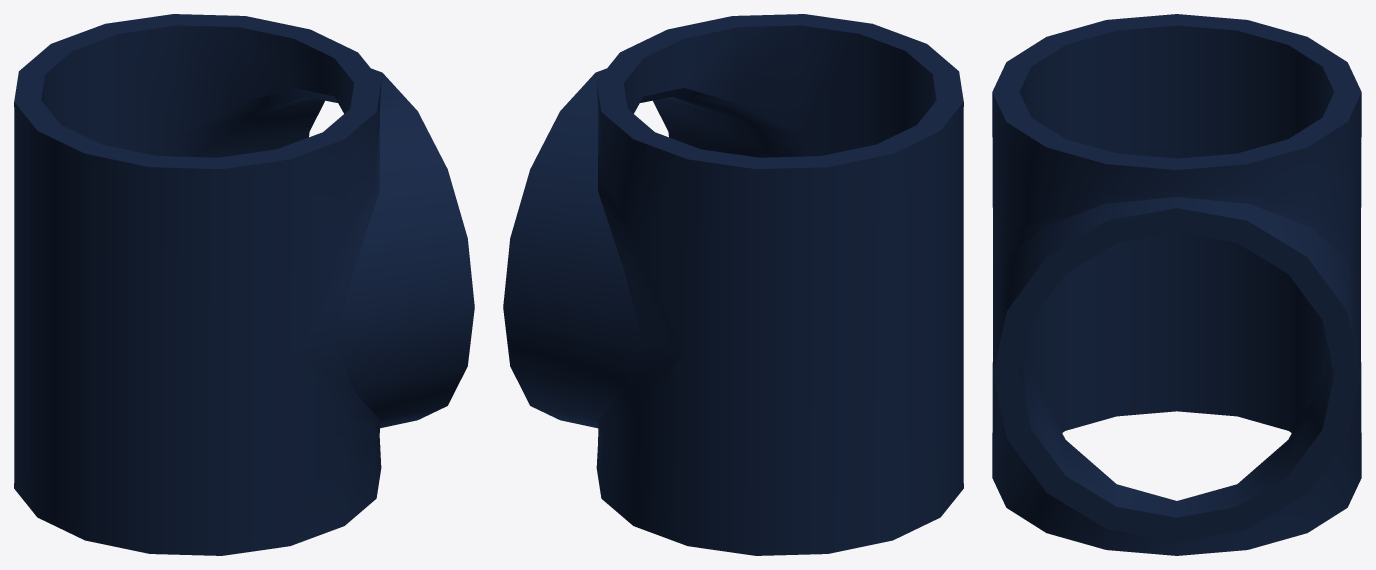
The model's file is Pipe_T.obj.
3 renders of one model, left to right at view 1: azimuth 30°, elevation 25°; view 2: azimuth 150°, elevation 25°; view 3: azimuth 270°, elevation 25°, orthographic.
Visible parts, largest first — view 1: Pipe_T_Cylinder.011; view 2: Pipe_T_Cylinder.011; view 3: Pipe_T_Cylinder.011.
Boxes of the visible parts, left/top/right/bottom form: Pipe_T_Cylinder.011: left=14, top=14, right=474, bottom=555; Pipe_T_Cylinder.011: left=503, top=14, right=963, bottom=555; Pipe_T_Cylinder.011: left=992, top=14, right=1361, bottom=555.
Bounding box in the file's own units: 1.87 × 2 × 1.74.
